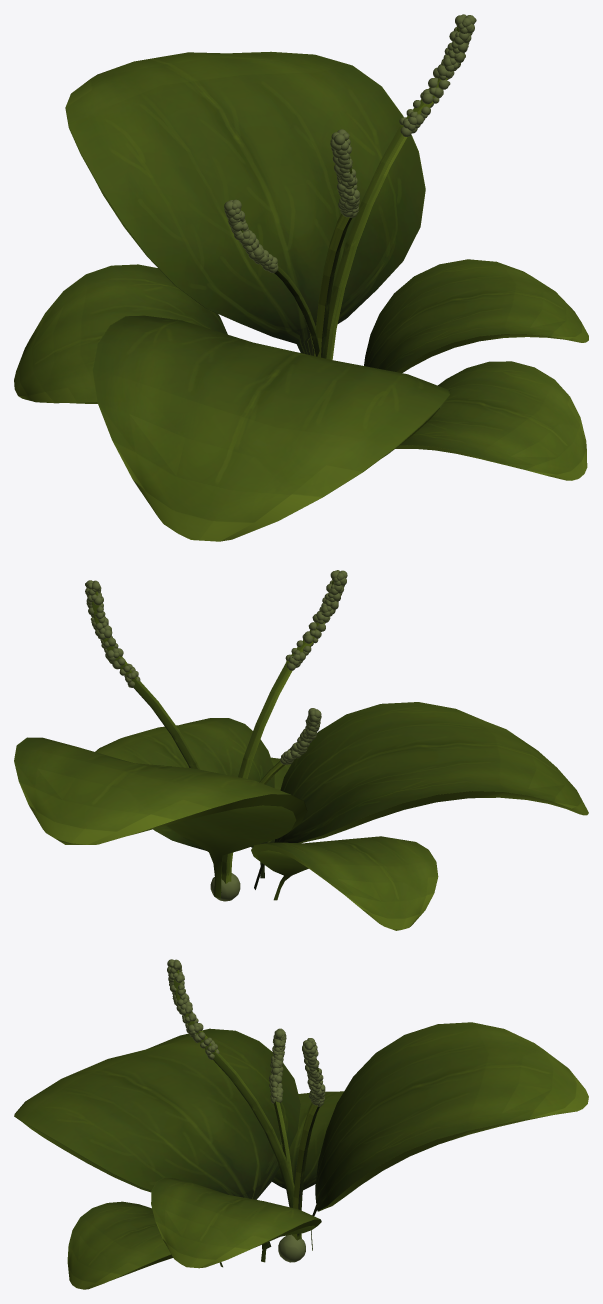
The model's file is Plantago.fbx.
3 renders of one model, top to bottom at view 1: azimuth 30°, elevation 25°; view 2: azimuth 150°, elevation 25°; view 3: azimuth 270°, elevation 25°, orthographic. The views are drawn at different scales.
Visible parts, largest first — view 1: Sphere, Sphere.002, Sphere.001, Sphere.004, Sphere.003, Cylinder.001, Cylinder.002, Cylinder.005; view 2: Sphere.002, Sphere, Sphere.003, Sphere.001, Cylinder.002, Cylinder.001, Mball.003; view 3: Sphere.002, Sphere, Sphere.001, Sphere.004, Sphere.003, Cylinder.002, Cylinder.001, Mball.003, Cylinder.005.
Boxes of the visible parts, bbox=[...] form: Sphere: bbox=[65, 51, 425, 355]; Sphere.002: bbox=[92, 315, 450, 541]; Sphere.001: bbox=[364, 259, 588, 372]; Sphere.004: bbox=[395, 361, 587, 480]; Sphere.003: bbox=[14, 264, 227, 403]; Cylinder.001: bbox=[325, 126, 407, 359]; Cylinder.002: bbox=[314, 213, 352, 358]; Cylinder.005: bbox=[274, 266, 319, 356]; Sphere.002: bbox=[254, 702, 588, 889]; Sphere: bbox=[14, 737, 307, 898]; Sphere.003: bbox=[251, 836, 438, 930]; Sphere.001: bbox=[95, 718, 274, 850]; Cylinder.002: bbox=[221, 662, 292, 883]; Cylinder.001: bbox=[131, 679, 222, 877]; Mball.003: bbox=[210, 873, 240, 901]; Sphere.002: bbox=[14, 1028, 300, 1248]; Sphere: bbox=[311, 1022, 588, 1250]; Sphere.001: bbox=[151, 1177, 321, 1268]; Sphere.004: bbox=[67, 1201, 222, 1289]; Sphere.003: bbox=[272, 1091, 343, 1190]; Cylinder.002: bbox=[211, 1052, 301, 1238]; Cylinder.001: bbox=[292, 1103, 319, 1240]; Mball.003: bbox=[278, 1234, 305, 1262]; Cylinder.005: bbox=[274, 1100, 293, 1180].
Bounding box in the file's own units: 468 × 326 × 598.
